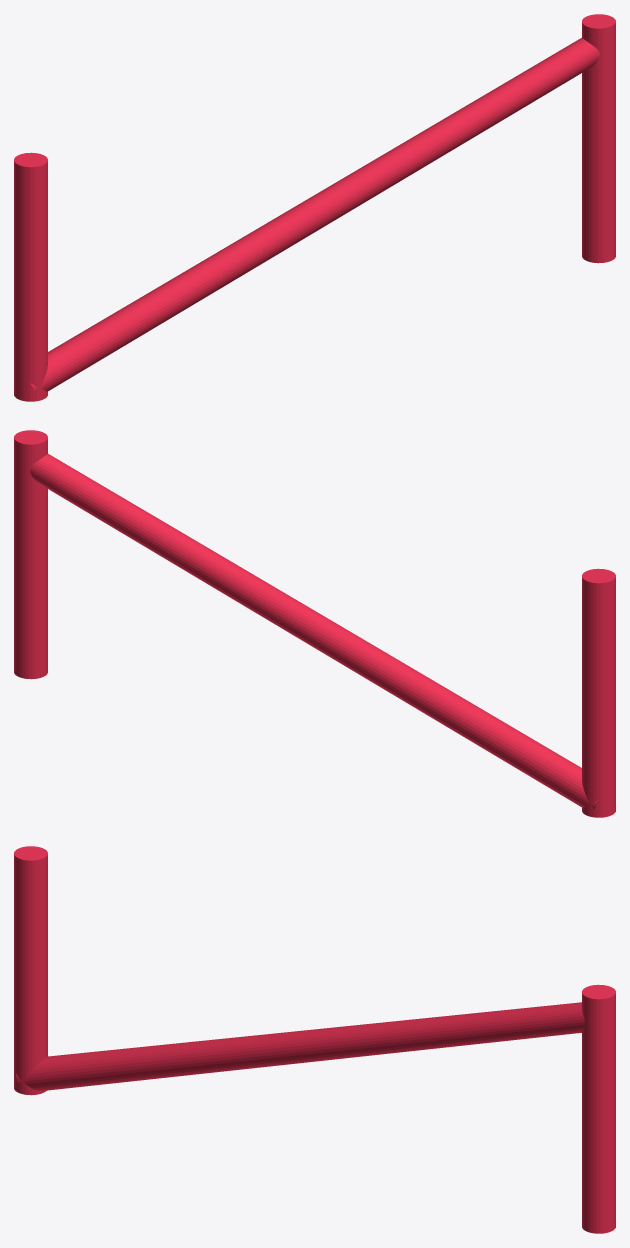
The model's file is BarObstacle2.fbx.
3 renders of one model, top to bottom at view 1: azimuth 30°, elevation 25°; view 2: azimuth 150°, elevation 25°; view 3: azimuth 330°, elevation 25°, orthographic.
Parts seen in each view (by area): view 1: Cylinder.010; view 2: Cylinder.010; view 3: Cylinder.010.
Boxes of the visible parts, bbox=[...] form: Cylinder.010: bbox=[14, 14, 615, 401]; Cylinder.010: bbox=[14, 430, 615, 817]; Cylinder.010: bbox=[14, 846, 615, 1233].
Size of the model in its own units: 236 by 89.66 by 11.66.
1 material, 1 textured.
